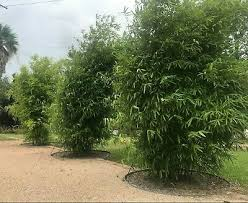bamboo: (119, 3, 247, 180), (51, 12, 117, 160), (4, 52, 48, 144)
